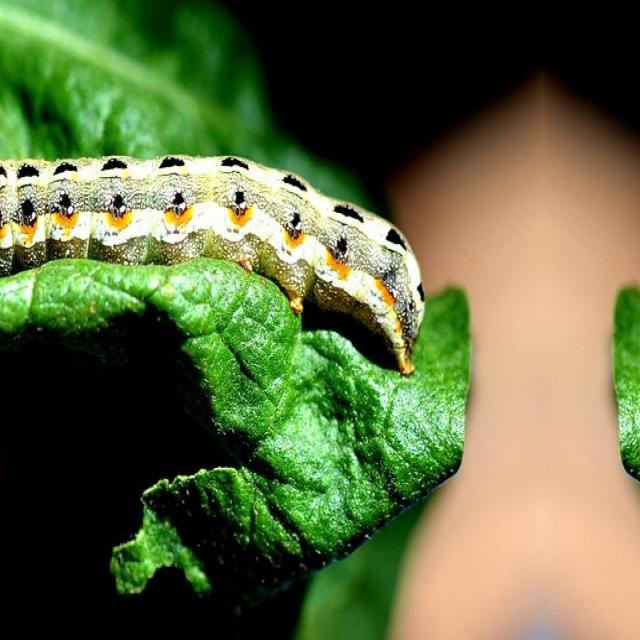Armyworm: (1, 113, 431, 402)
